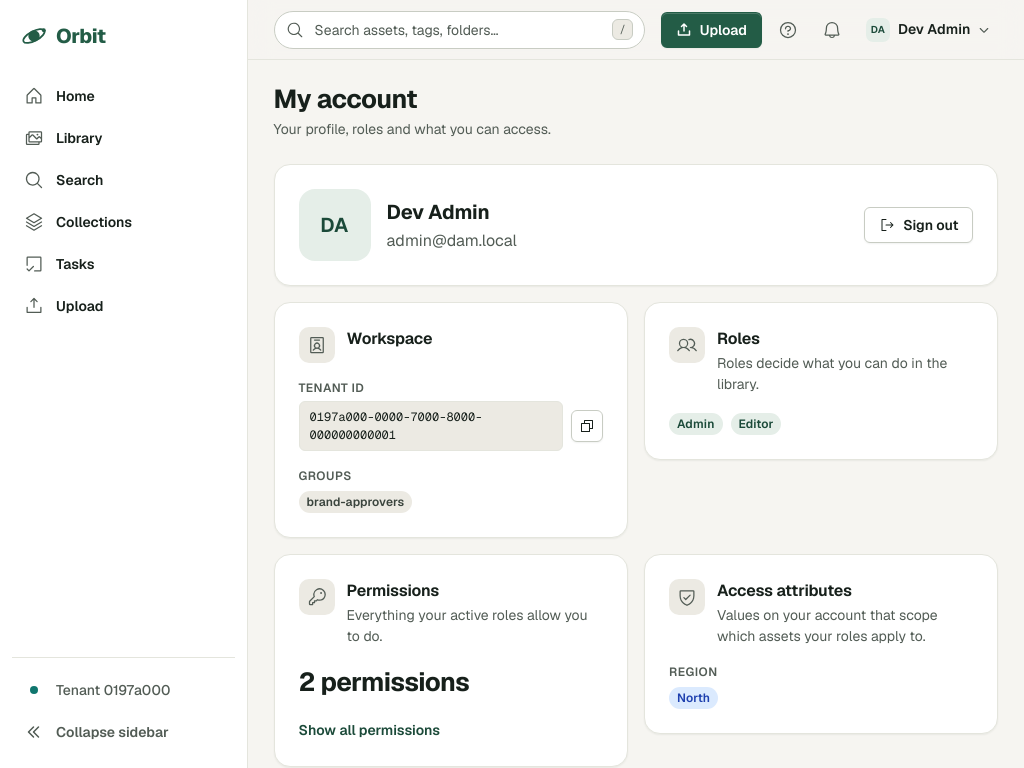
shell › switches language to Hindi, updates <html lang> and remembers the choice
Expected: the heading "My account" is shown, [274, 82, 417, 116]
Click the button with aria-label "Account menu" at [928, 30], box [858, 12, 998, 48]
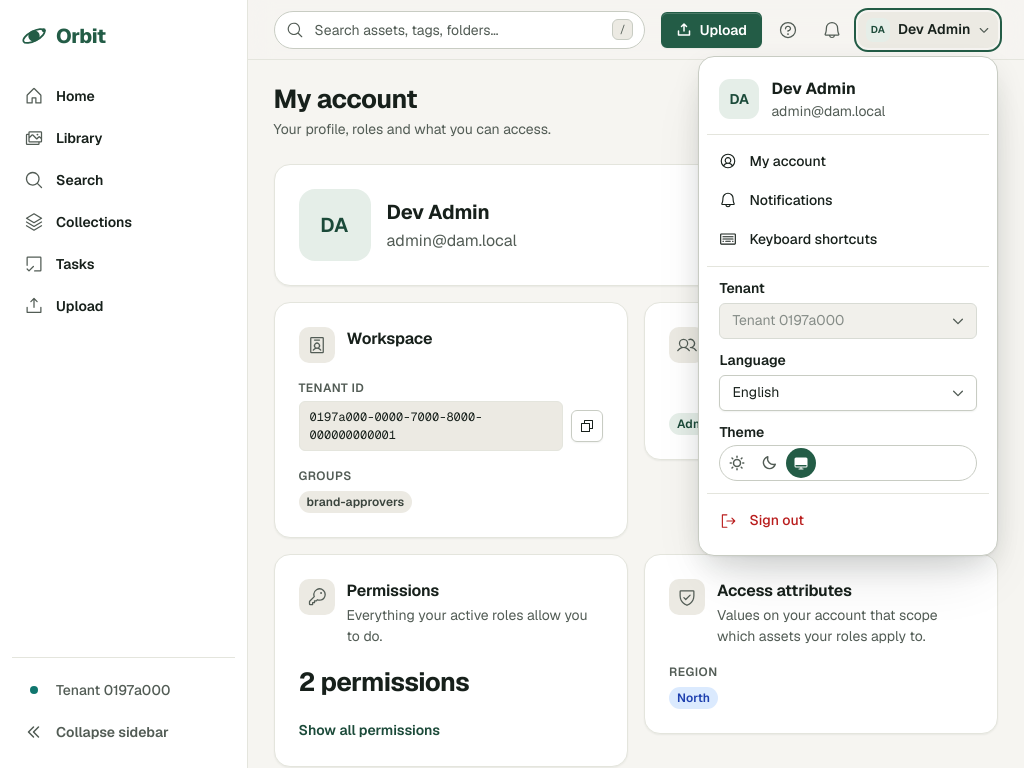
Select "हिन्दी" in the dropdown labelled "Language" at [848, 393], box [719, 375, 977, 411]
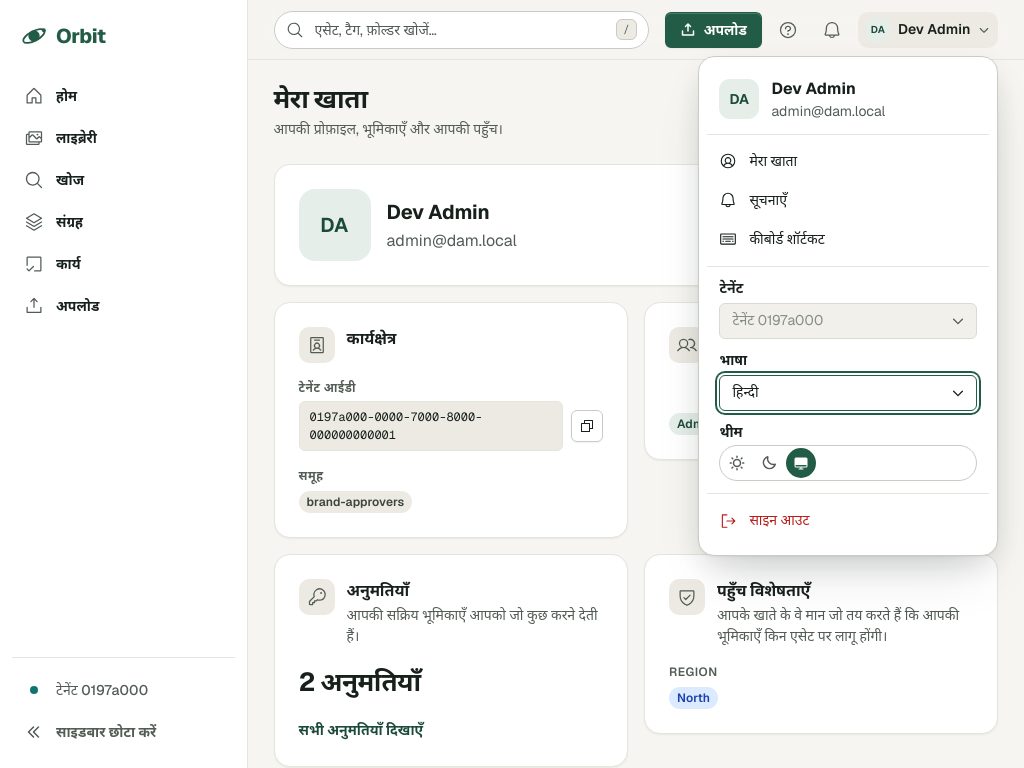
Expected: the heading "मेरा खाता" is shown, [274, 82, 368, 116]
